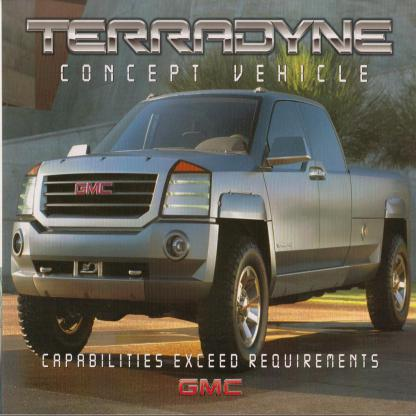Truck: (10, 86, 412, 370)
